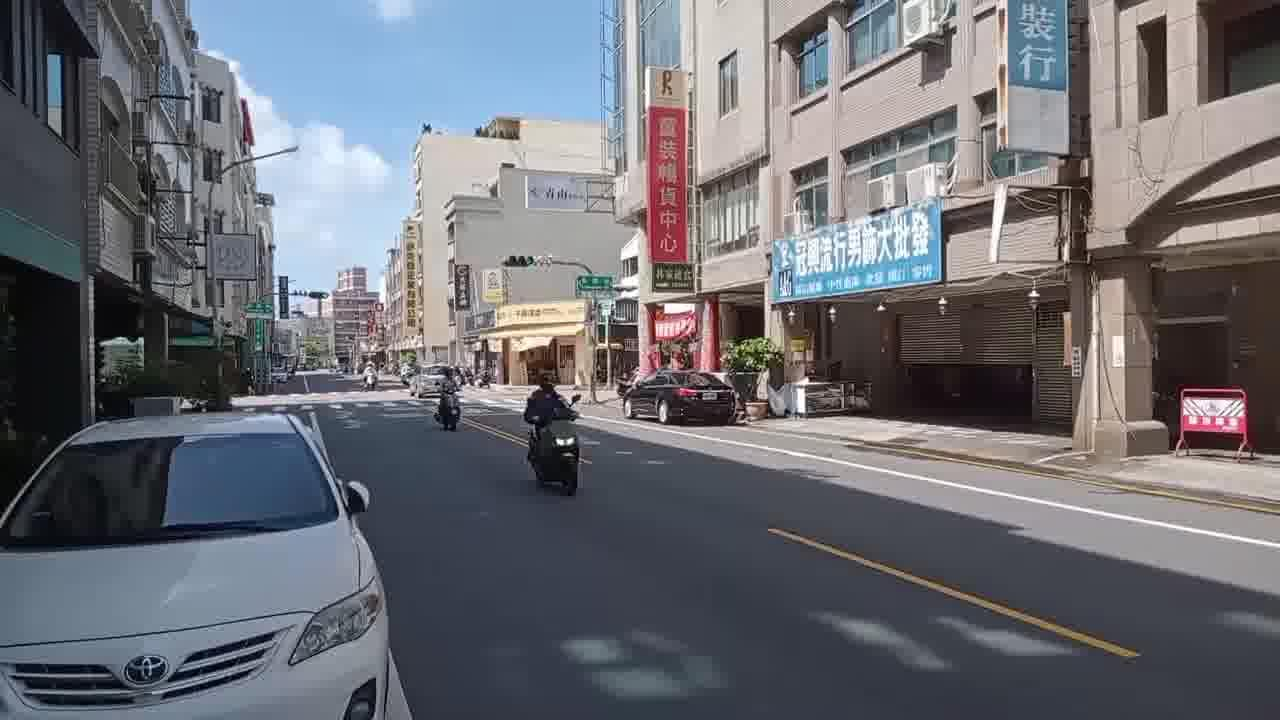driver: (522, 367, 585, 499)
